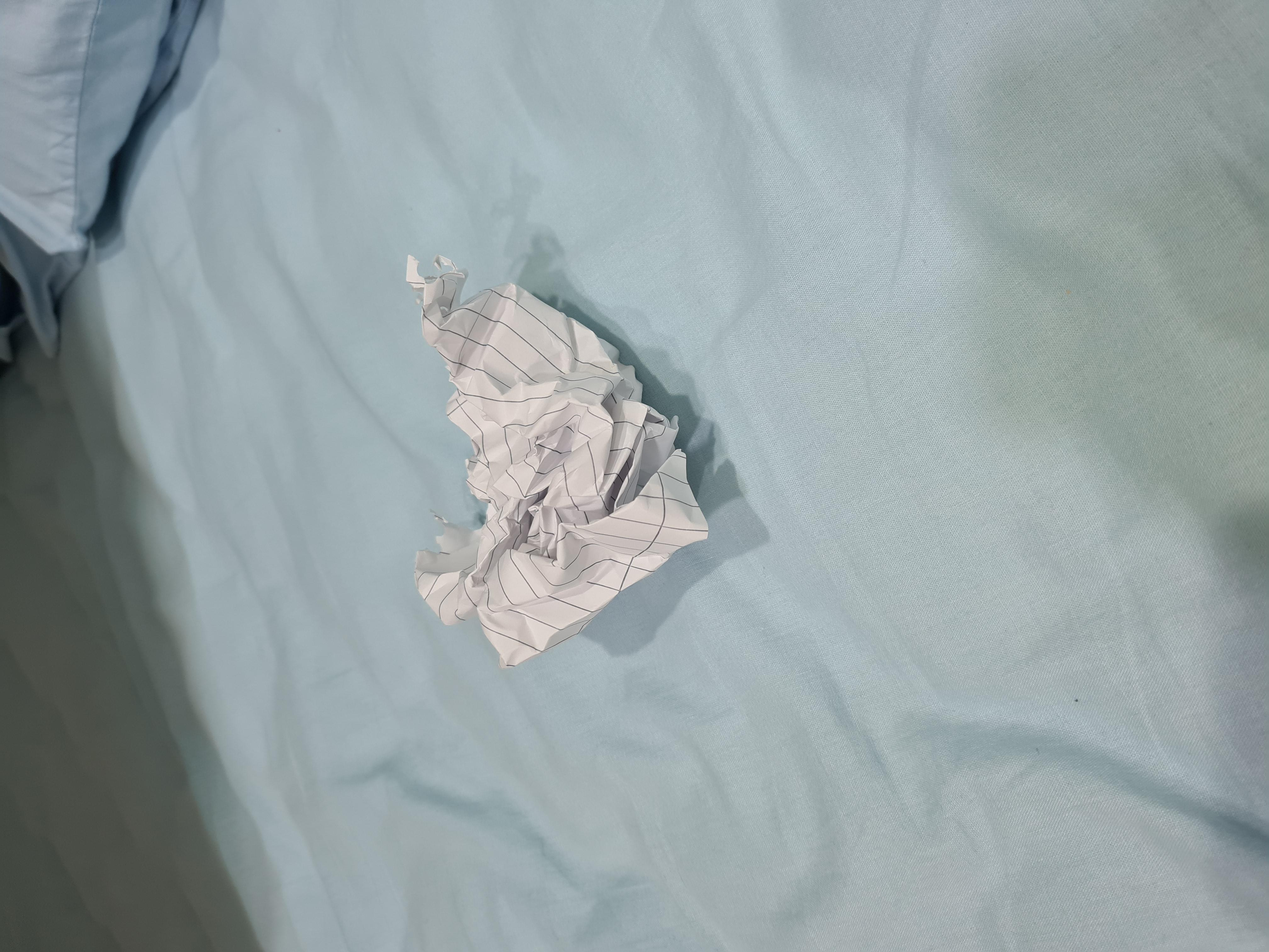paper: (400, 307, 919, 527)
